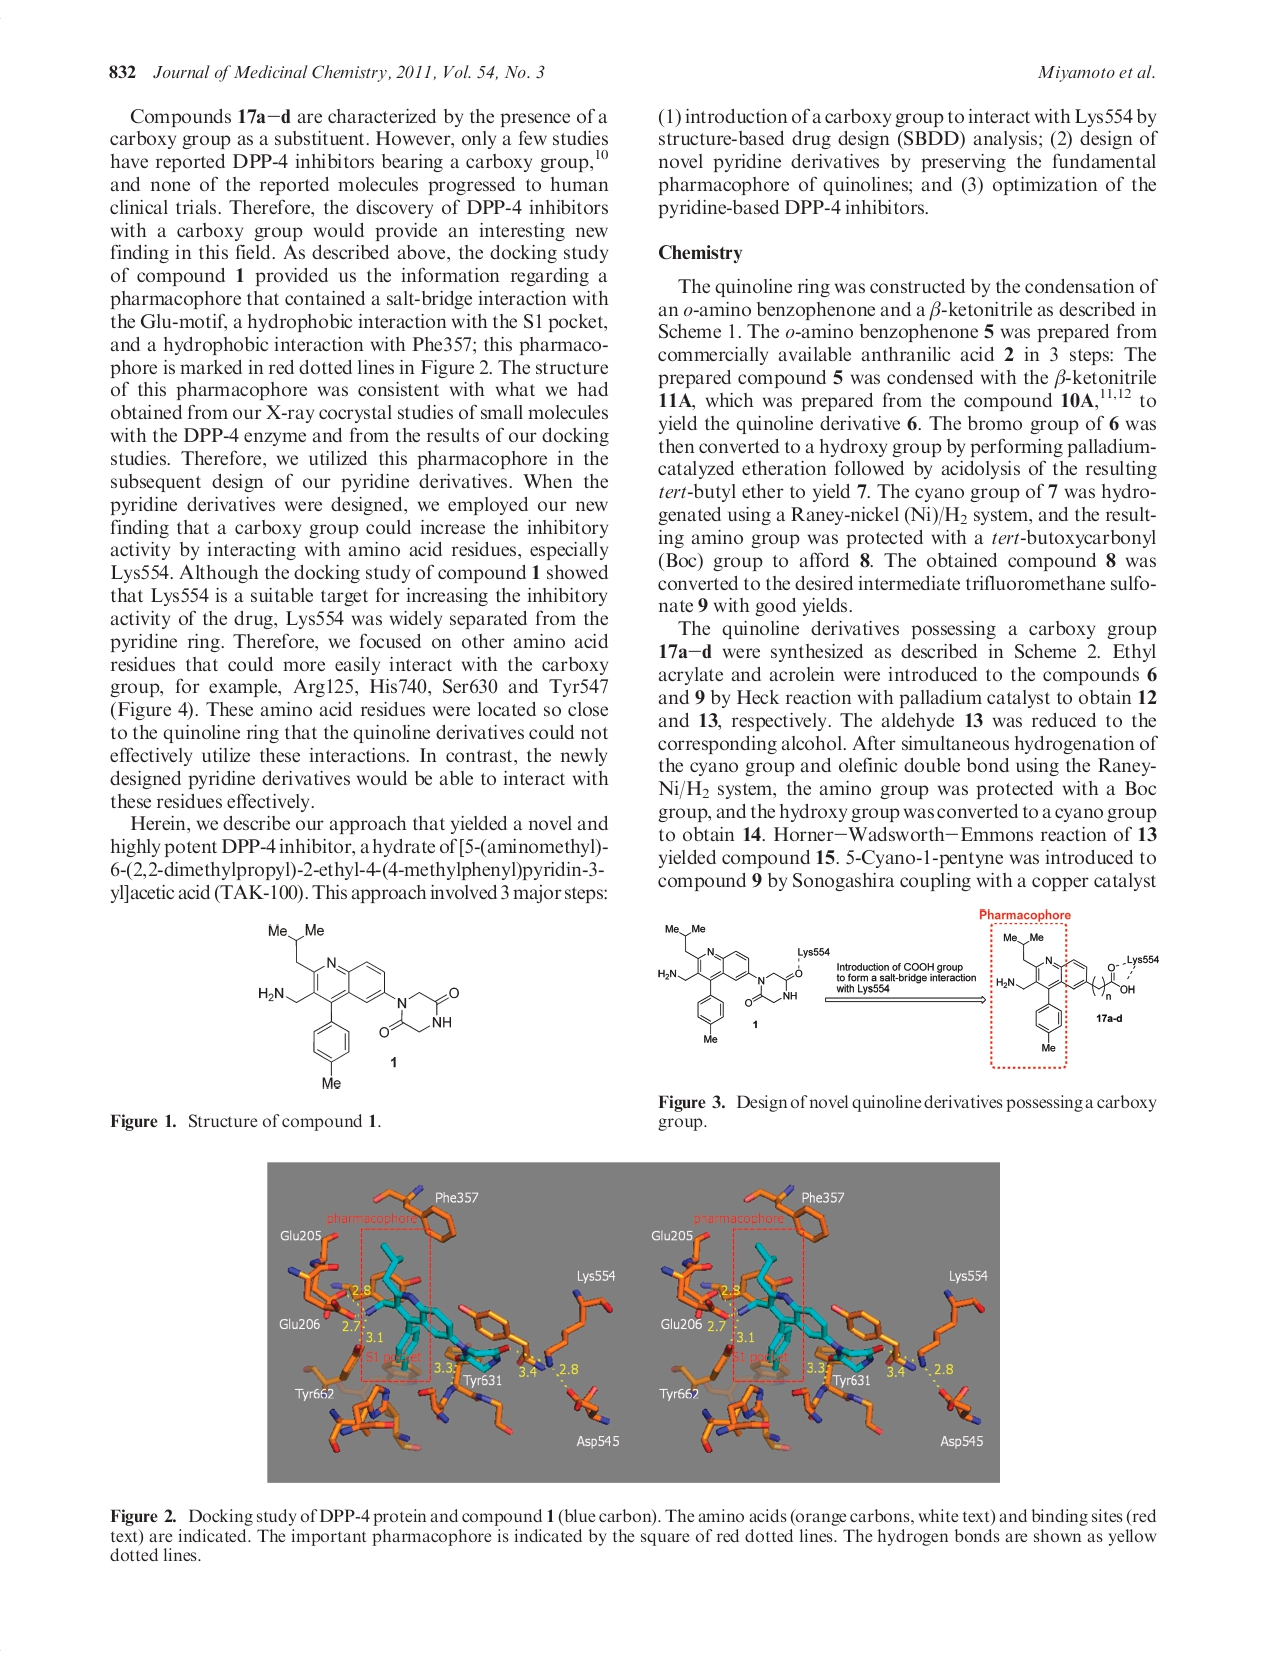exist_molecular: (257, 915, 465, 1091), (653, 919, 828, 1047), (993, 930, 1160, 1055)
